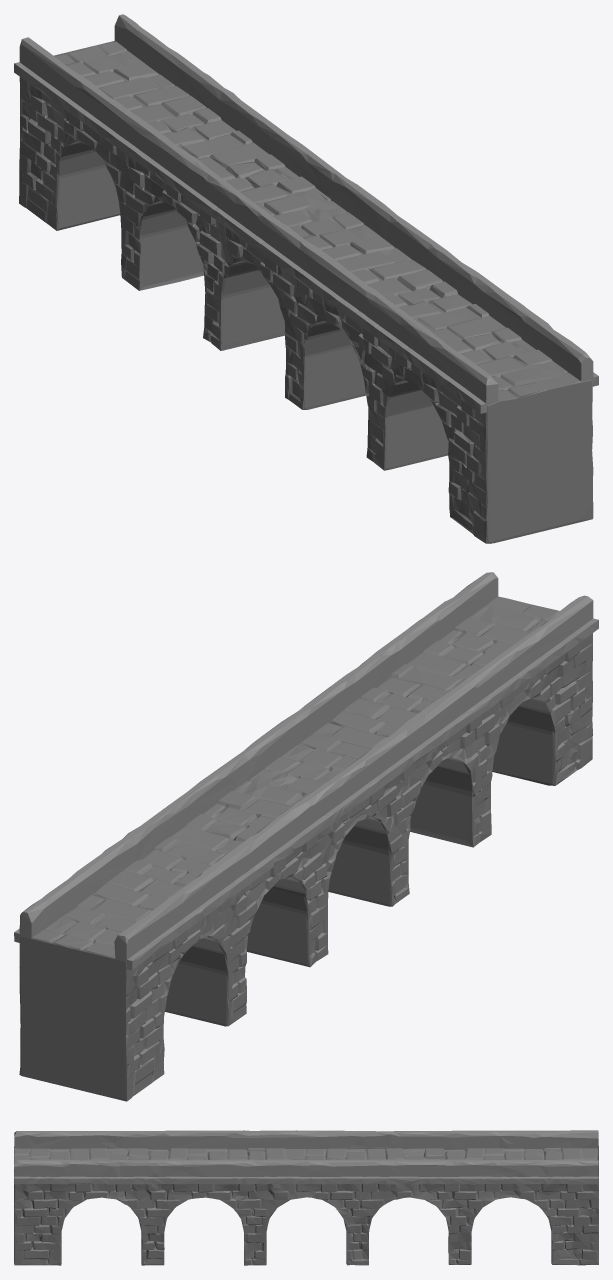
File: bridge_d.FBX
The picture shows the model from 3 angles, top to bottom: view 1: azimuth 30°, elevation 25°; view 2: azimuth 150°, elevation 25°; view 3: azimuth 270°, elevation 25°; orthographic projection. The views are drawn at different scales.
Visible parts, largest first — view 1: bridge_d; view 2: bridge_d; view 3: bridge_d.
Part boxes in pixels (bbox=[...]): bridge_d: bbox=[14, 14, 598, 543]; bridge_d: bbox=[14, 572, 598, 1101]; bridge_d: bbox=[14, 1130, 598, 1265].
Size of the model in its own units: 4.41 by 5.83 by 30.
